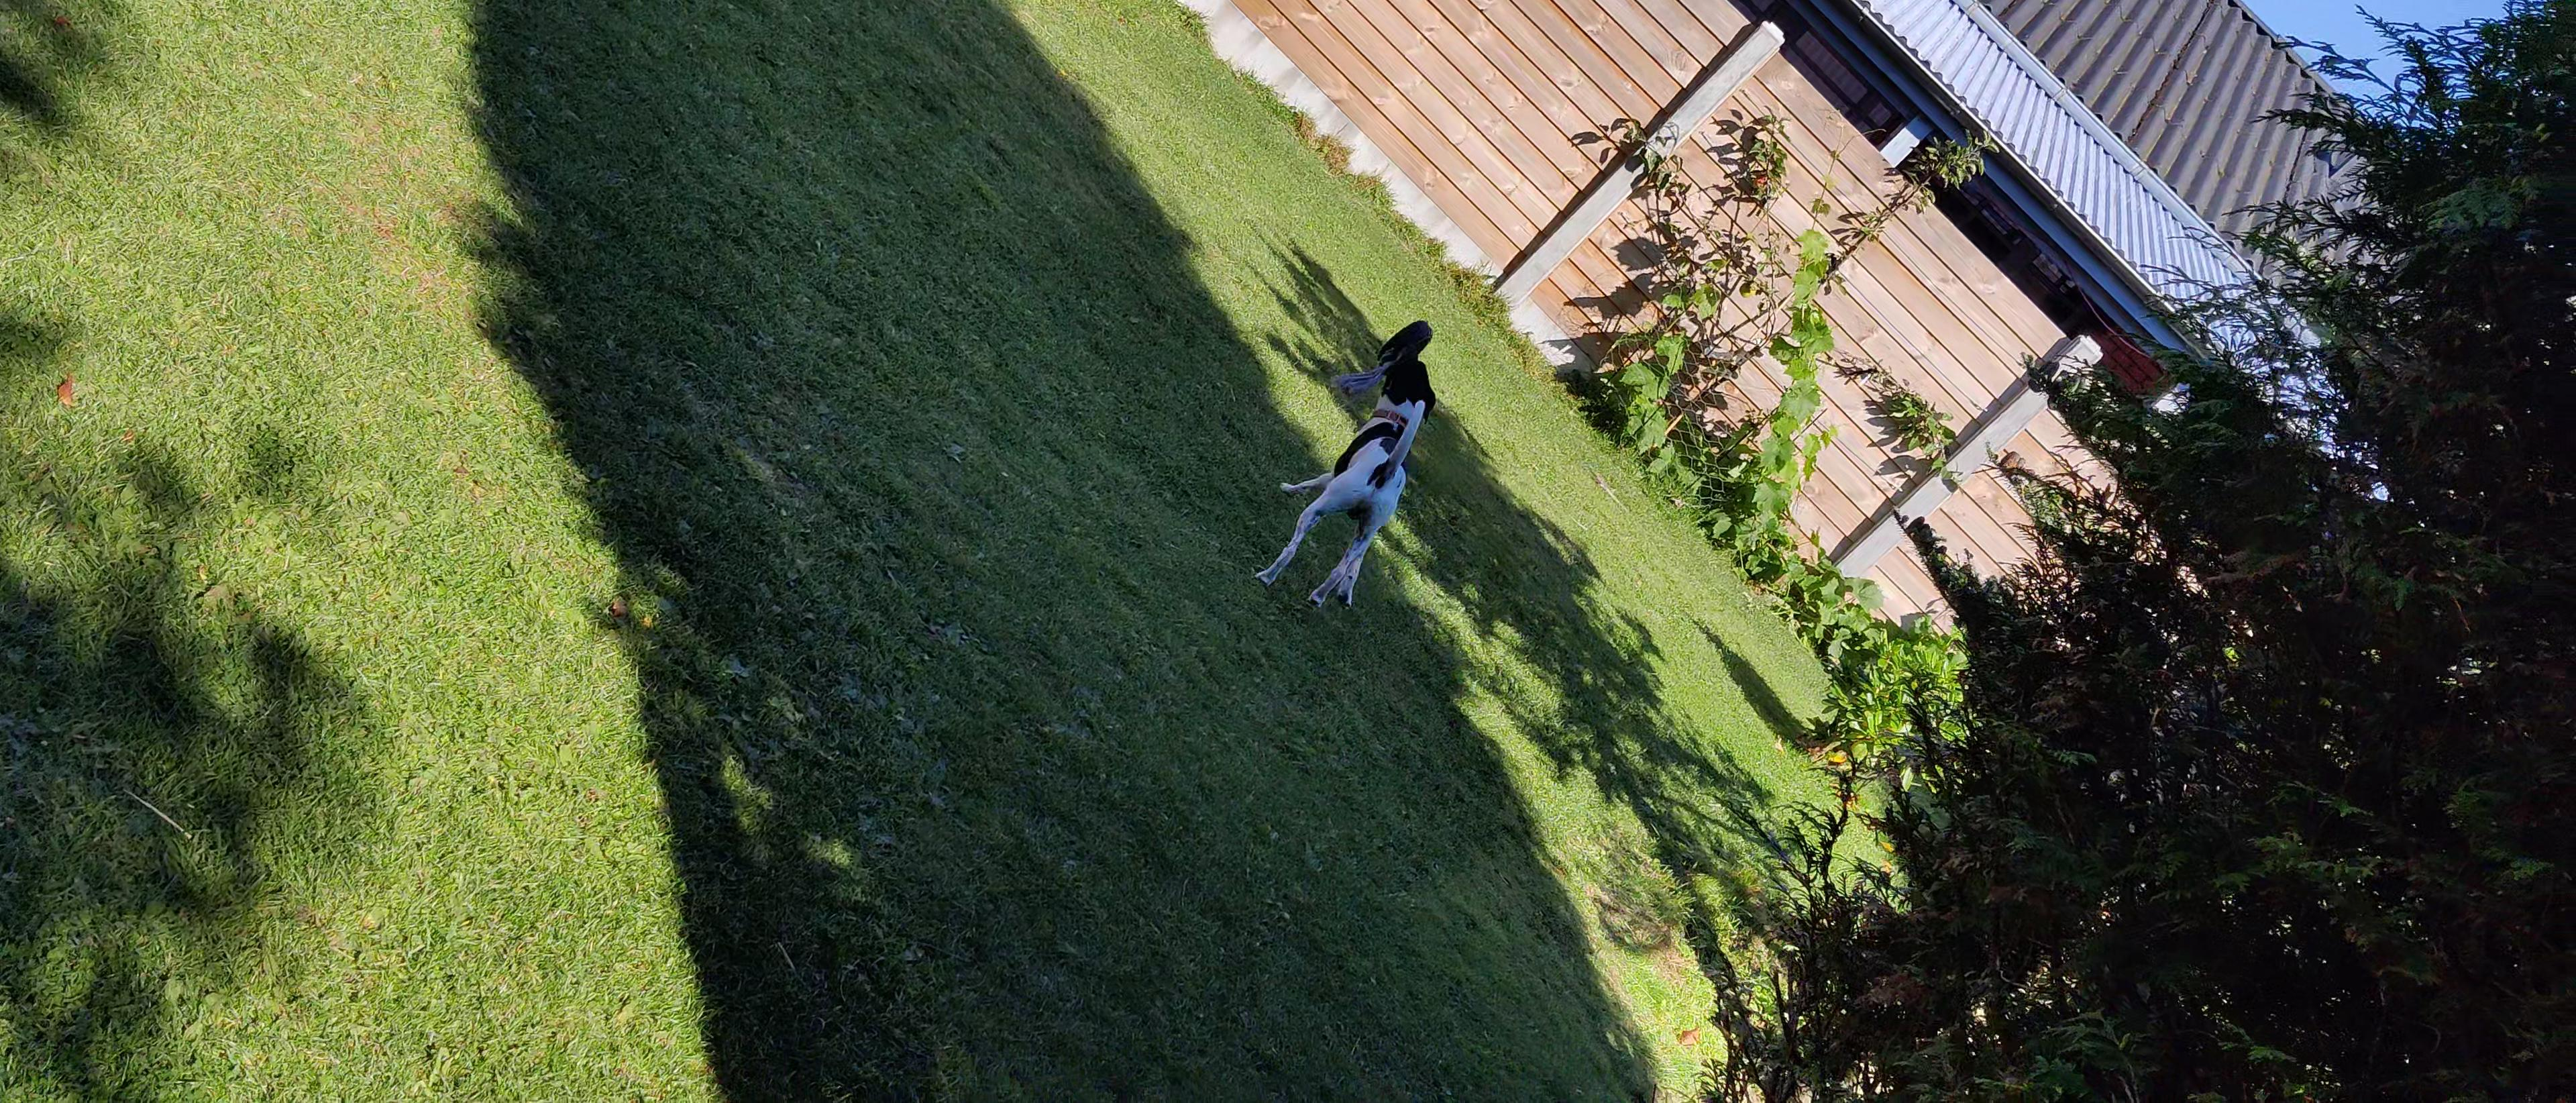Dog: (1247, 337, 1447, 635)
